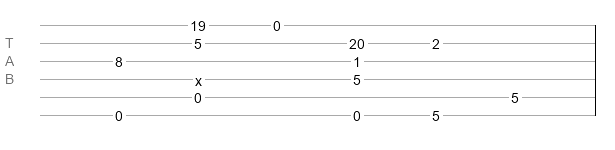0: (115, 108, 123, 118), (194, 90, 202, 100), (273, 18, 281, 28), (353, 108, 361, 118)
1: (353, 54, 361, 64)
19: (190, 18, 206, 28)
2: (432, 36, 440, 46)
20: (349, 36, 365, 46)
5: (194, 36, 202, 46), (353, 72, 361, 82), (432, 108, 440, 118), (511, 90, 519, 100)
8: (115, 54, 123, 64)
x: (195, 73, 202, 81)
